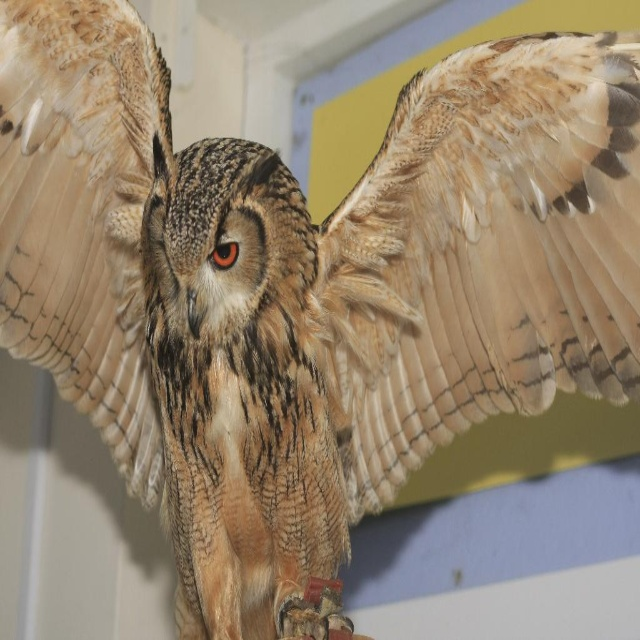Owl: (0, 2, 640, 639)
